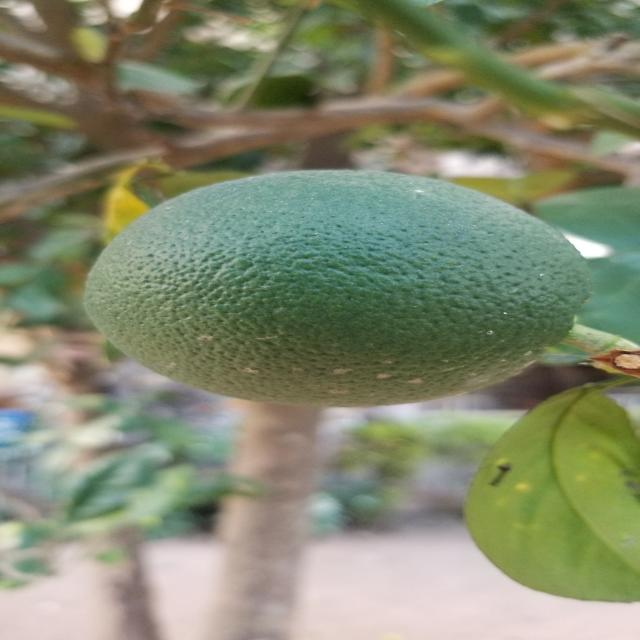Unripe: (88, 164, 601, 420)
